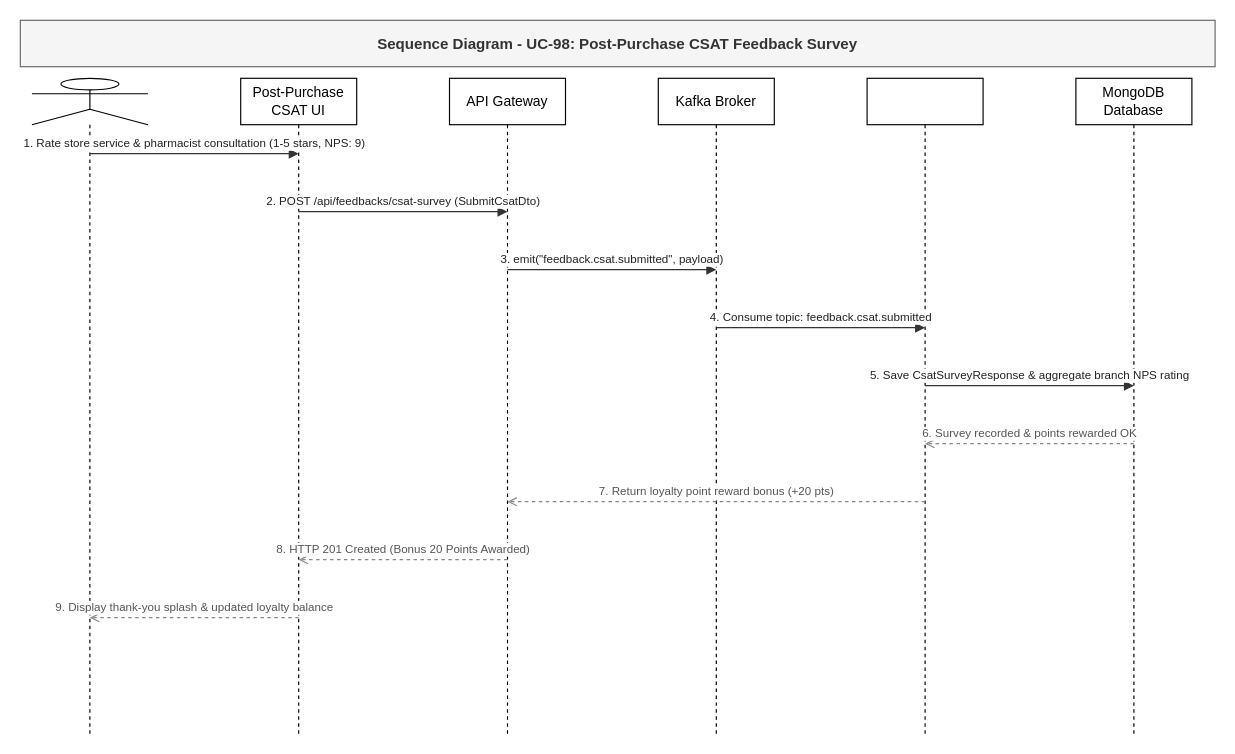
Image size: 1235x754. Some labels were removed from this diagram. The shapes that lost their labels are listed below. From the top down, each one's box as (x1, y1, x2, y2) in pixels, then its label:
(31, 77, 148, 734): Customer
(866, 77, 983, 734): User Service
